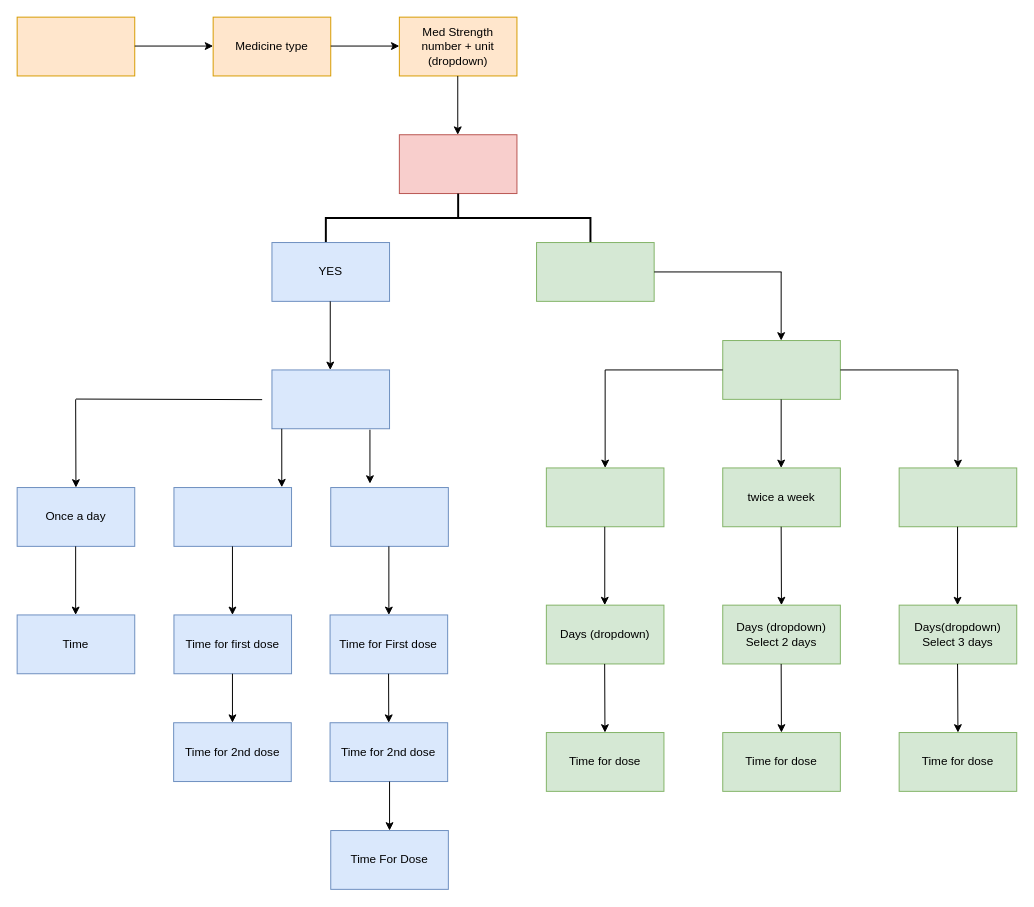
Some shapes in this 1034 by 907 pixel diagram are drawn without their labels. The centre of each missing label's shape, as x and y in pixels:
"3 times a day" belongs at (x=389, y=516).
"3 times a week" belongs at (x=957, y=497).
"How often do you take it (frequency)" belongs at (x=330, y=399).
"How often you take in a week" belongs at (x=781, y=369).
"Medicine Name" belongs at (x=75, y=46).
"Need to take this everyday" belongs at (x=457, y=164).
"No" belongs at (x=595, y=271).
"Once a week" belongs at (x=604, y=497).
"twice a day" belongs at (x=232, y=516).
